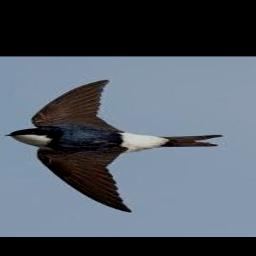Swallow: (4, 79, 224, 212)
